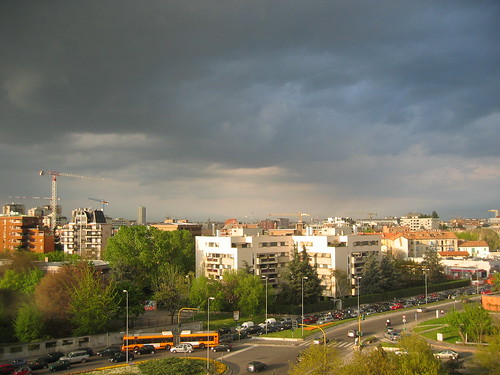building: (185, 224, 290, 295), (285, 224, 390, 295), (59, 204, 113, 267), (391, 230, 459, 272), (1, 208, 50, 264)
bus: (119, 327, 217, 353)
crane: (43, 167, 103, 239)
crosswalk: (305, 332, 363, 351)
sky: (1, 1, 492, 204)
street: (230, 299, 467, 375)
tree: (111, 221, 188, 294), (44, 269, 118, 332)
